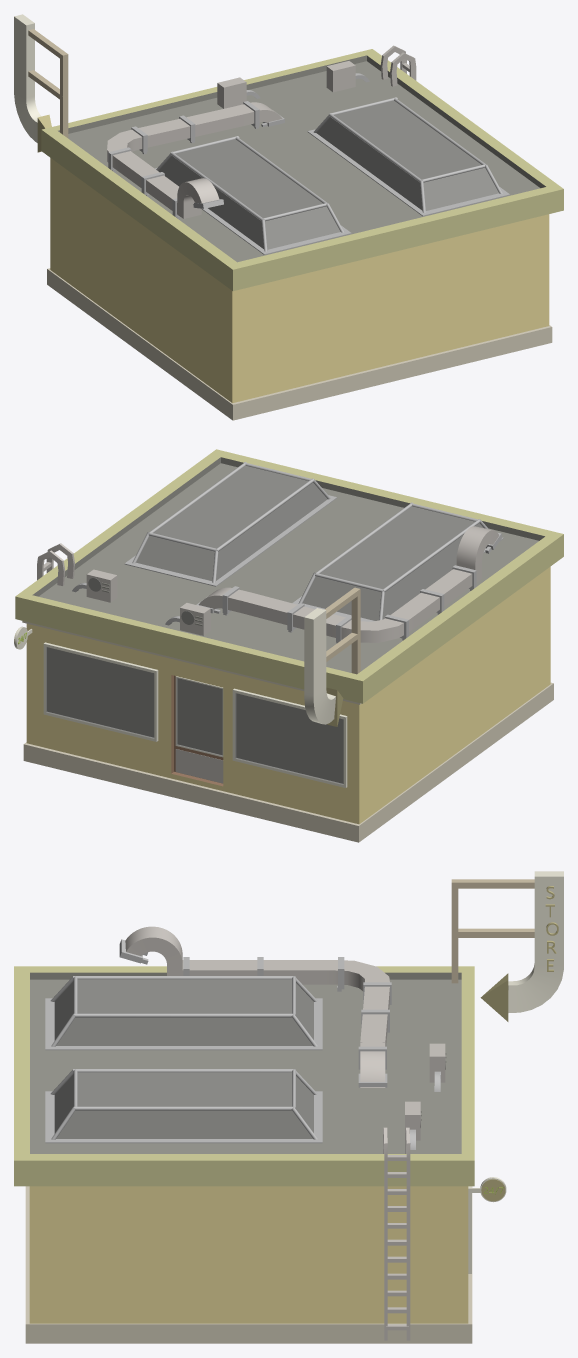
Rendered from house28.fbx.
The picture shows the model from 3 angles, top to bottom: view 1: azimuth 30°, elevation 25°; view 2: azimuth 150°, elevation 25°; view 3: azimuth 270°, elevation 25°; orthographic projection. The views are drawn at different scales.
Visible parts, largest first — view 1: e; view 2: e; view 3: e.
Boxes of the visible parts, x1,y1,x2,y2 form: e: (14,14,563,420); e: (14,449,563,842); e: (14,871,563,1343).
Bounding box in the file's own units: 1170 × 792 × 1373.
